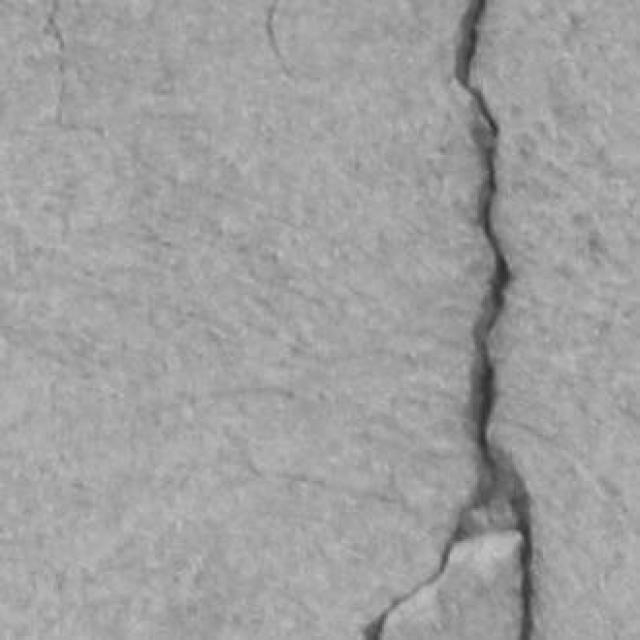crack: (363, 0, 533, 639), (45, 0, 65, 127), (266, 0, 292, 77)
